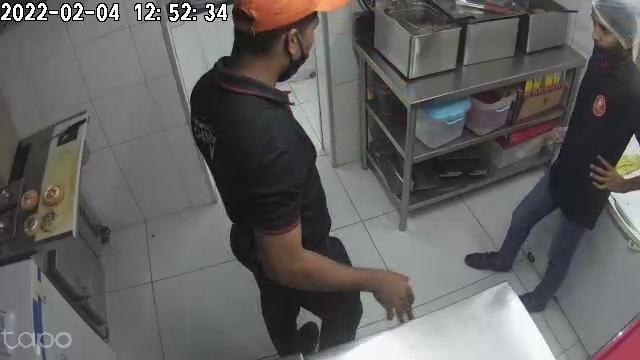no_gloves: (355, 267, 414, 318), (588, 156, 639, 194)
